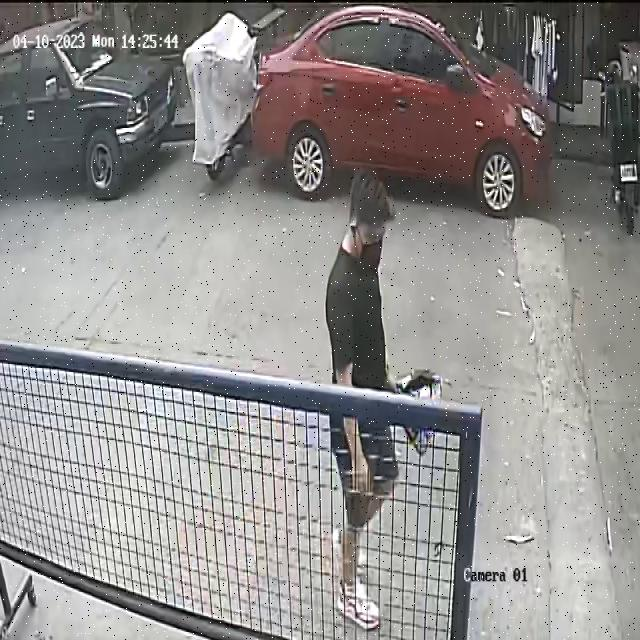human: (326, 173, 442, 627)
